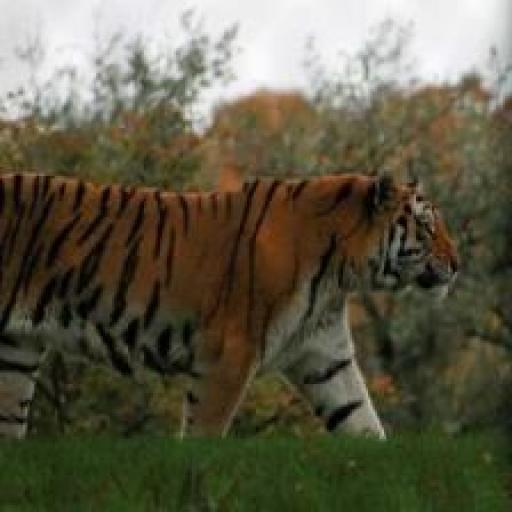Tiger: (0, 162, 470, 447)
